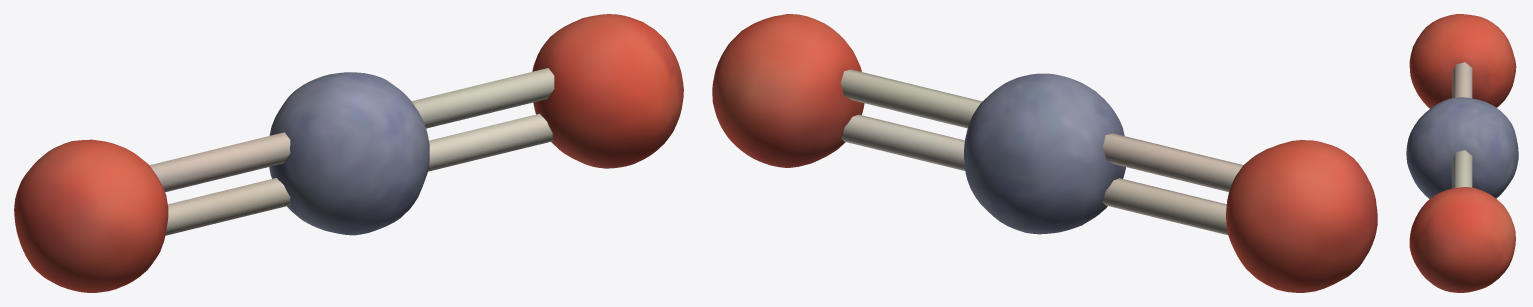
3 renders of one model, left to right at view 1: azimuth 30°, elevation 25°; view 2: azimuth 150°, elevation 25°; view 3: azimuth 270°, elevation 25°, orthographic. The views are drawn at different scales.
Parts seen in each view (by area): view 1: co2-oxygen, co2-carbon, co2-bonds; view 2: co2-oxygen, co2-carbon, co2-bonds; view 3: co2-oxygen, co2-carbon, co2-bonds.
Boxes of the visible parts, box(x1,y1,x2,y2) form: co2-oxygen: box(14, 14, 683, 292); co2-carbon: box(269, 72, 429, 235); co2-bonds: box(149, 68, 554, 235); co2-oxygen: box(712, 14, 1377, 292); co2-carbon: box(964, 73, 1125, 234); co2-bonds: box(840, 69, 1243, 234); co2-oxygen: box(1409, 14, 1516, 292); co2-carbon: box(1406, 97, 1518, 198); co2-bonds: box(1452, 62, 1472, 188).
Size of what is drawn, in the model's own units: 1.56 by 0.3403 by 0.3398.
